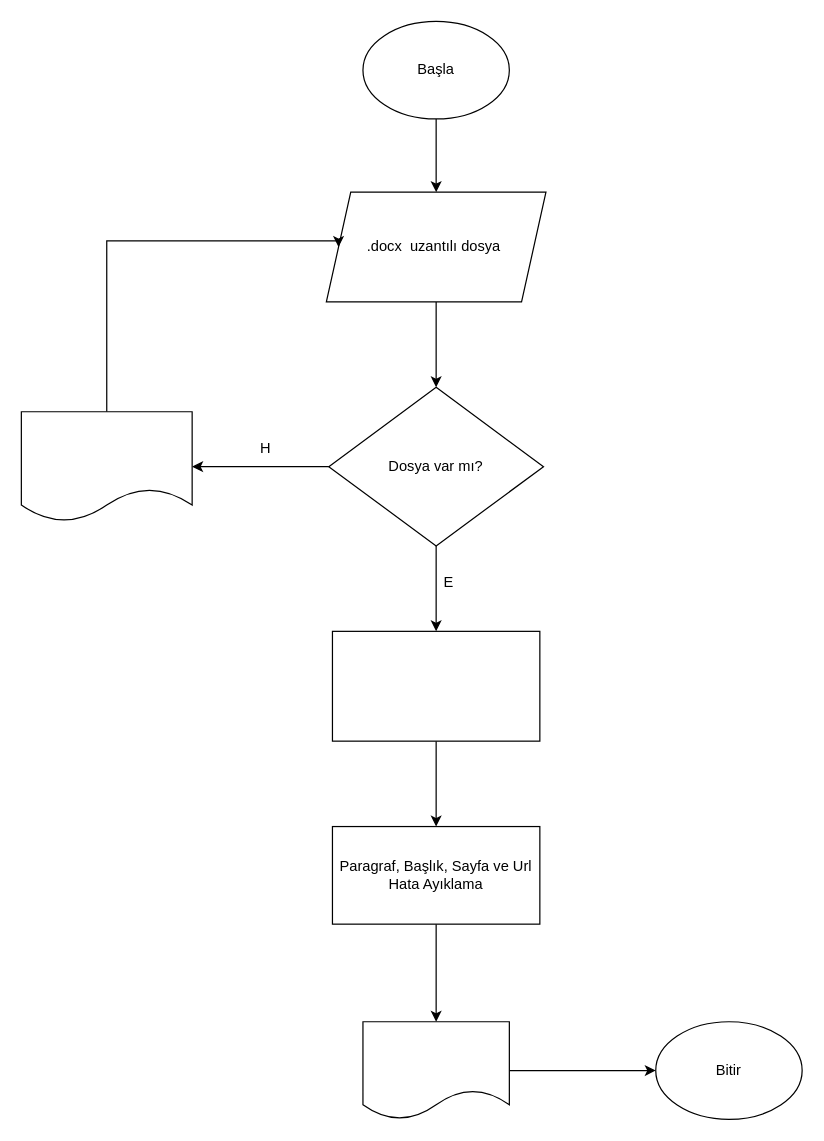
Image size: 824x1141. Some labels were removed from this diagram. The centre of each missing label's shape, as x and y in pixels:
"Dosya yok. Başka bir tane deneyiniz" goes at (106,466).
"Hataları Göster" goes at (435,1070).
"Paragraf Kontrolü Başlık Kontrolü Sayfa Kontrolü Url Kontrolü" goes at (435,685).
